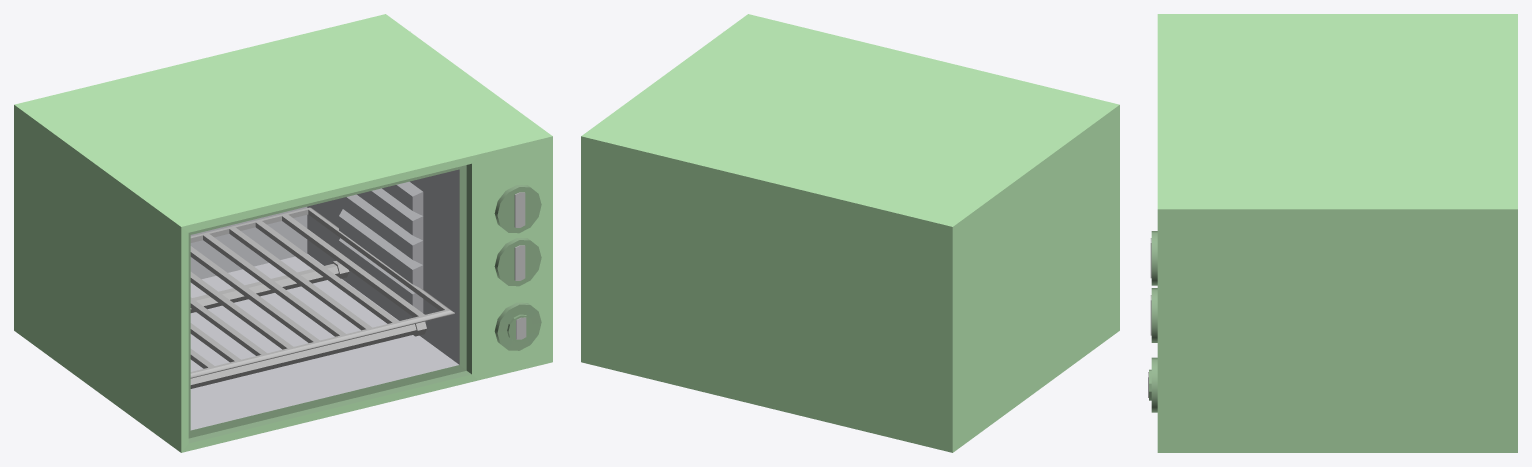
File: oven.FBX
3 renders of one model, left to right at view 1: azimuth 30°, elevation 25°; view 2: azimuth 150°, elevation 25°; view 3: azimuth 270°, elevation 25°, orthographic. The views are drawn at different scales.
Visible parts, largest first — view 1: Box001, Box002, Cylinder002, Cylinder008, Cylinder003, Cylinder007, Cylinder006; view 2: Box001; view 3: Box001, Cylinder008, Cylinder006, Cylinder007.
Part boxes in pixels (<box>): Box001: <box>14,14,552,452</box>; Box002: <box>190,207,454,378</box>; Cylinder002: <box>190,321,426,388</box>; Cylinder008: <box>494,302,541,350</box>; Cylinder003: <box>190,261,349,312</box>; Cylinder007: <box>494,238,541,286</box>; Cylinder006: <box>494,185,541,233</box>; Box001: <box>581,14,1119,452</box>; Box001: <box>1157,14,1517,452</box>; Cylinder008: <box>1149,357,1157,412</box>; Cylinder006: <box>1151,231,1157,285</box>; Cylinder007: <box>1151,288,1157,342</box>.
Size of the model in its own units: 153 by 88.77 by 122.
